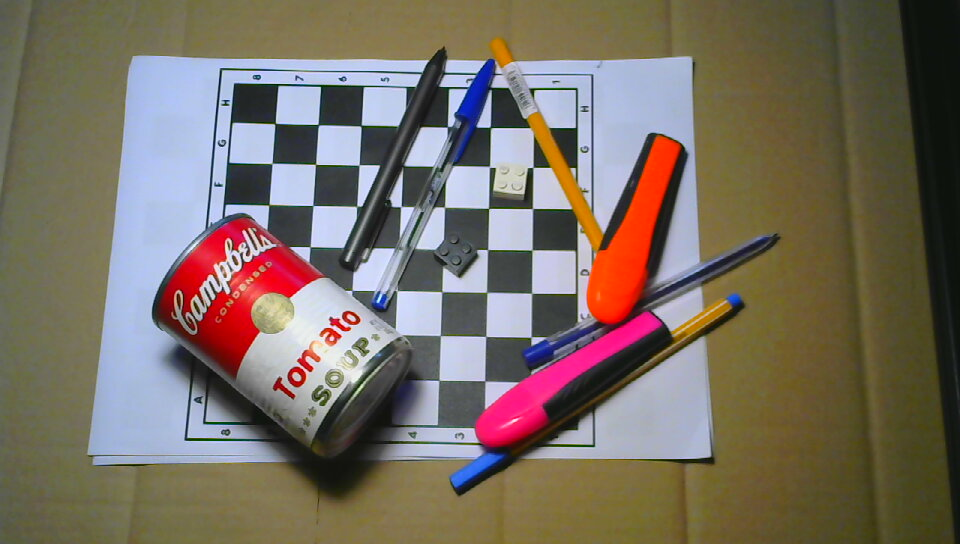bp: (433, 230, 479, 279)
wp: (492, 161, 529, 201)
